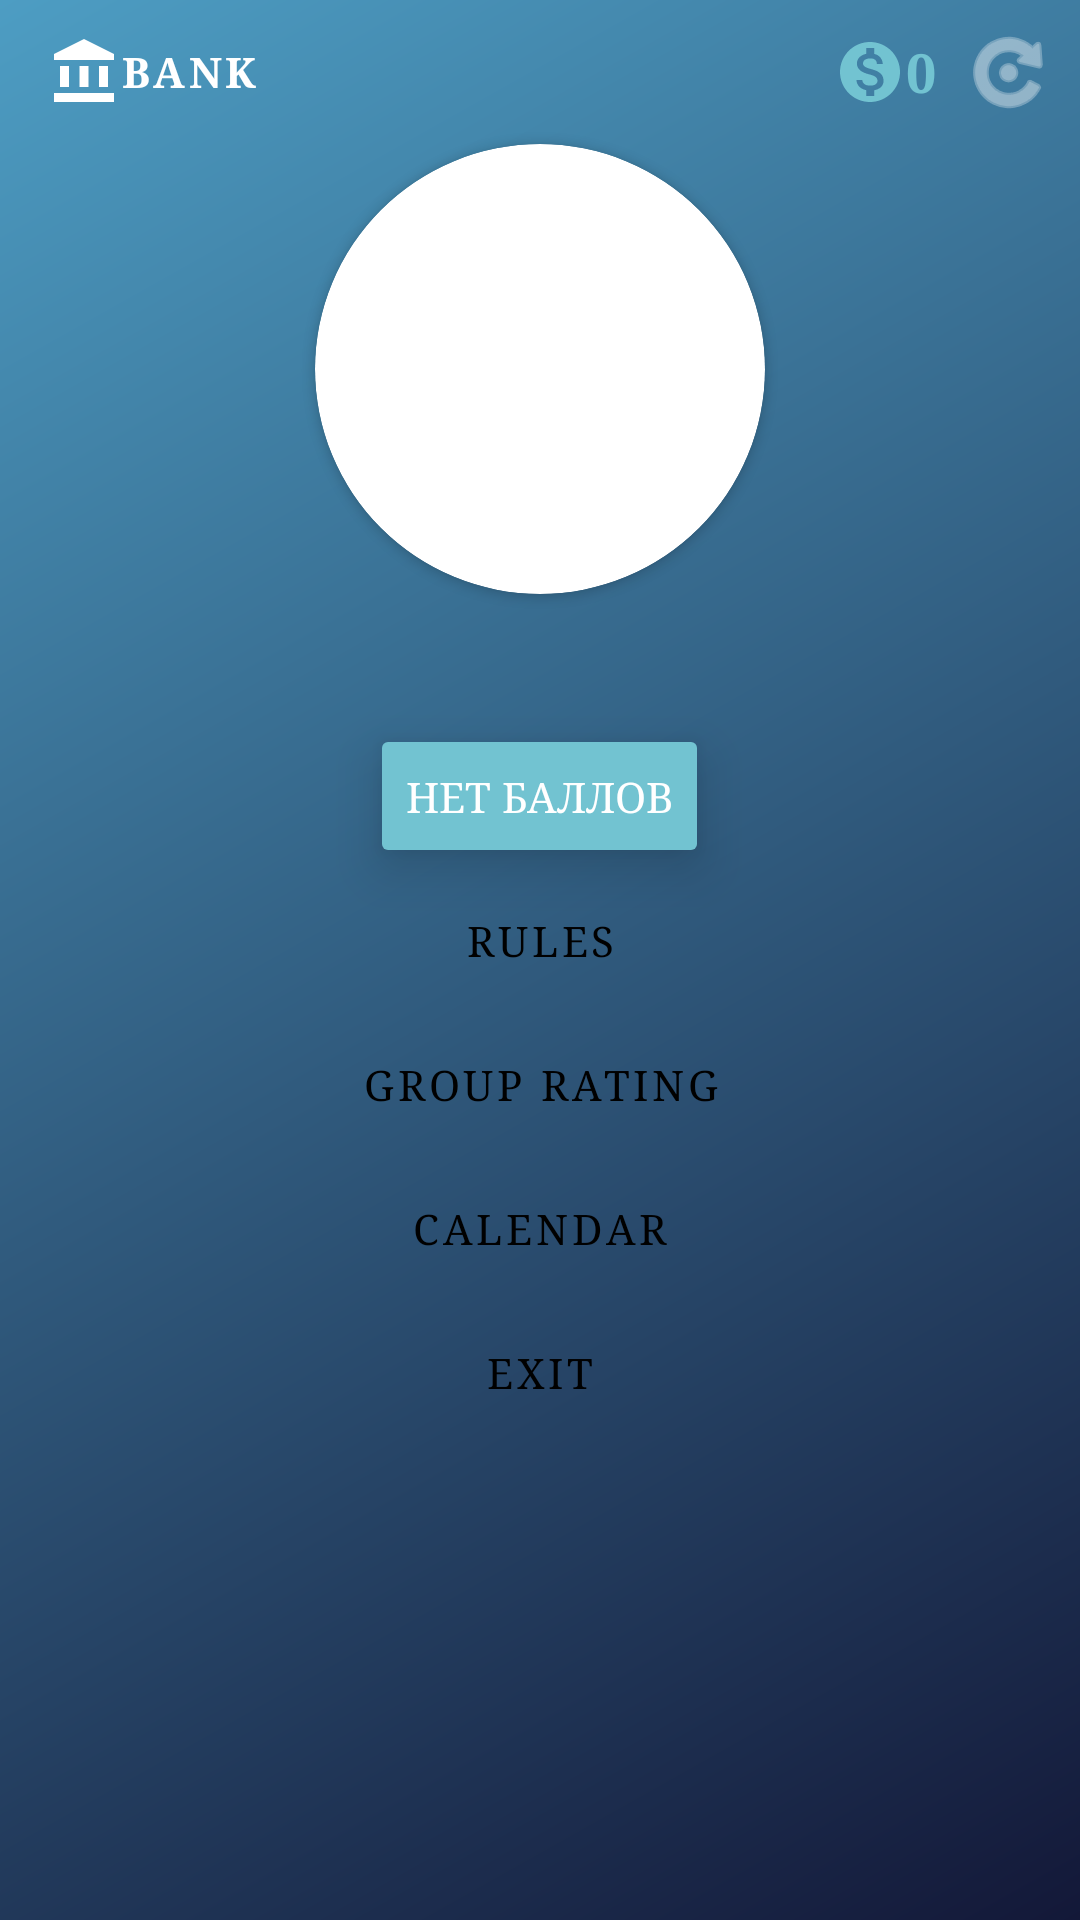

Icon bounding boxes for this 1080px×1920px phone screenshot, format (x1=x1, y1=y1, x2=x2, y2=y2):
Обновить: (x1=973, y1=37, x2=1043, y2=108)
